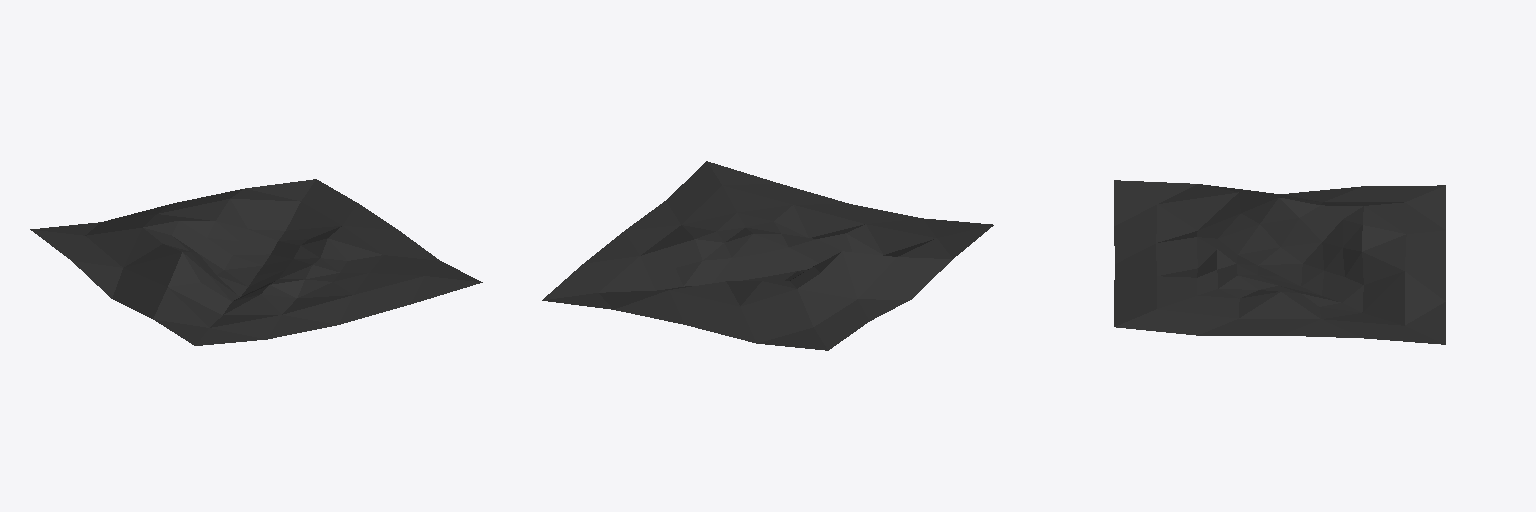
File: terrain.obj
3 views of the same model, side by side, from view 1: azimuth 30°, elevation 25°; view 2: azimuth 150°, elevation 25°; view 3: azimuth 270°, elevation 25° (orthographic).
Parts seen in each view (by area): view 1: Terrain; view 2: Terrain; view 3: Terrain.
Part boxes in pixels (x1,y1,x2,y2): Terrain: (30, 179, 482, 345); Terrain: (542, 161, 993, 350); Terrain: (1114, 180, 1445, 344).
Bounding box in the file's own units: 2.01 × 0.2991 × 2.01.